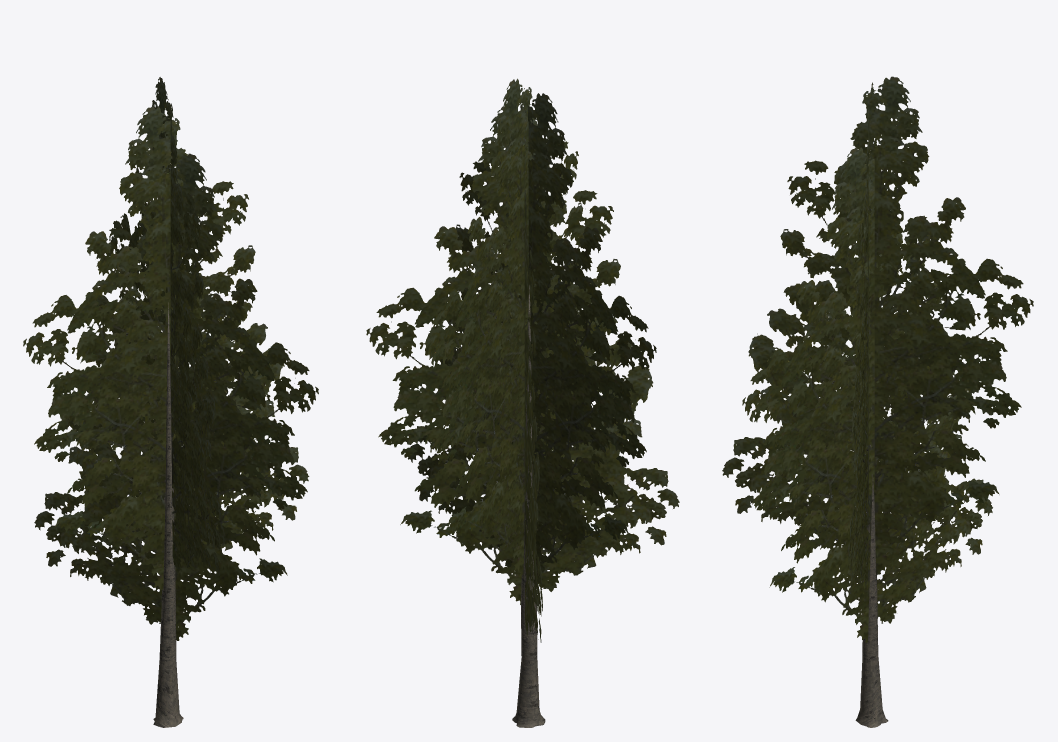
Rendered from tree_rt_2_1.obj.
The picture shows the model from 3 angles, left to right: view 1: azimuth 30°, elevation 25°; view 2: azimuth 150°, elevation 25°; view 3: azimuth 270°, elevation 25°; orthographic projection. The views are drawn at different scales.
Parts seen in each view (by area): view 1: tree_rt_2_1; view 2: tree_rt_2_1; view 3: tree_rt_2_1.
Boxes of the visible parts, x1=… form: tree_rt_2_1: x1=23, y1=77, x2=318, y2=727; tree_rt_2_1: x1=366, y1=78, x2=679, y2=727; tree_rt_2_1: x1=722, y1=76, x2=1033, y2=727.
Size of the model in its own units: 2.31 by 5.06 by 2.31.
